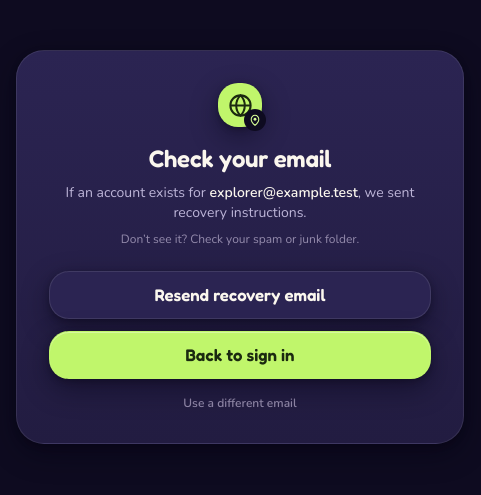
Test case: ResetPasswordPage › syncs the resend cooldown to server Retry-After on 429 errors and allows switching emails
This screenshot has width=481, height=495.
Earlier steps of the test are not shown.
Expected: the heading "Check your email" is shown, left=149, top=143, right=331, bottom=175
Click the button "Resend recovery email" at coordinates (240, 295), box left=49, top=271, right=431, bottom=319
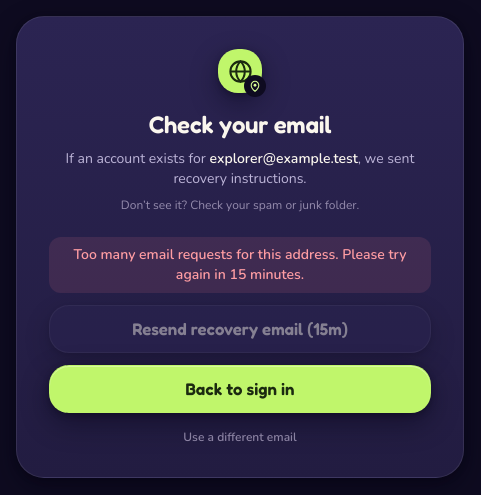
Expected: the message reads "Too many email requests for this address. Please try again in 15 minutes.", left=74, top=245, right=406, bottom=284
Expected: the button "Resend recovery email (15m)" is disabled, left=49, top=305, right=431, bottom=353
Click the button "Use a different email" at coordinates (240, 437), box left=183, top=429, right=297, bottom=445
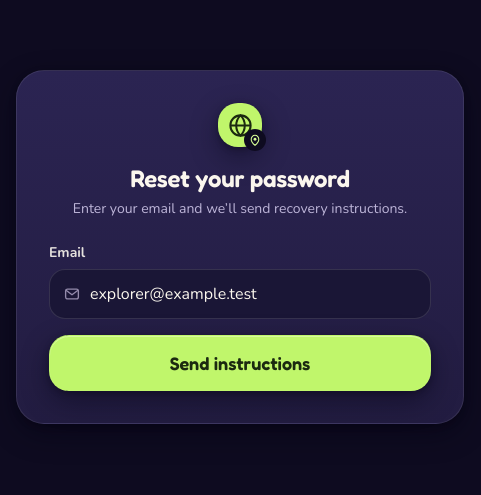
Expected: the field labelled "Email" holds "explorer@example.test", left=49, top=269, right=431, bottom=319
Expected: the message "Too many email requests for this address. Please try again in 15 minutes." is gone
